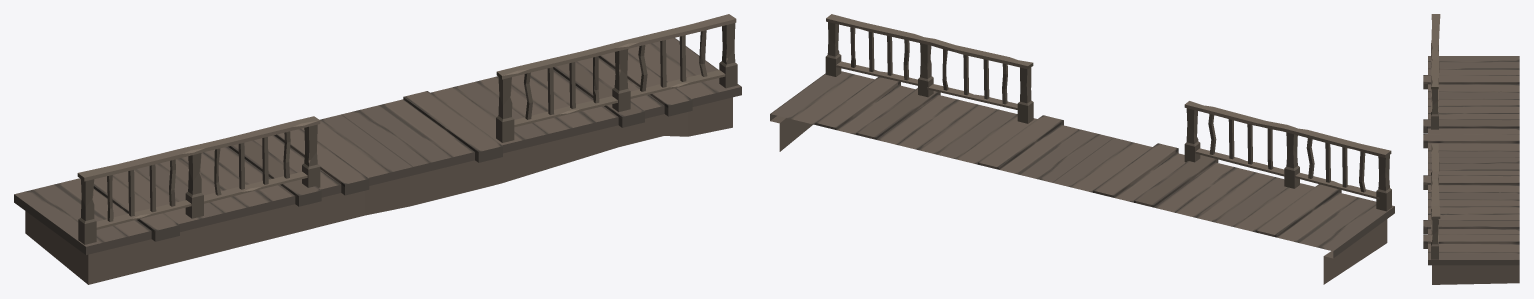
Rendered from SM_Bld_Double_Deck_02_Collisions.fbx.
The picture shows the model from 3 angles, left to right: view 1: azimuth 30°, elevation 25°; view 2: azimuth 150°, elevation 25°; view 3: azimuth 270°, elevation 25°; orthographic projection. The views are drawn at different scales.
Visible parts, largest first — view 1: SM_Bld_Double_Deck_02_Collisions; view 2: SM_Bld_Double_Deck_02_Collisions; view 3: SM_Bld_Double_Deck_02_Collisions.
Part boxes in pixels (x1,y1,x2,y2): SM_Bld_Double_Deck_02_Collisions: (14, 14, 741, 284); SM_Bld_Double_Deck_02_Collisions: (770, 14, 1394, 284); SM_Bld_Double_Deck_02_Collisions: (1423, 14, 1519, 284).
Bounding box in the file's own units: 1014 × 161 × 202.
